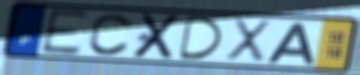A: (265, 21, 317, 66)
C: (86, 12, 136, 57)
D: (177, 15, 225, 61)
E: (38, 7, 92, 57)
X: (130, 13, 186, 60), (222, 17, 274, 65)
